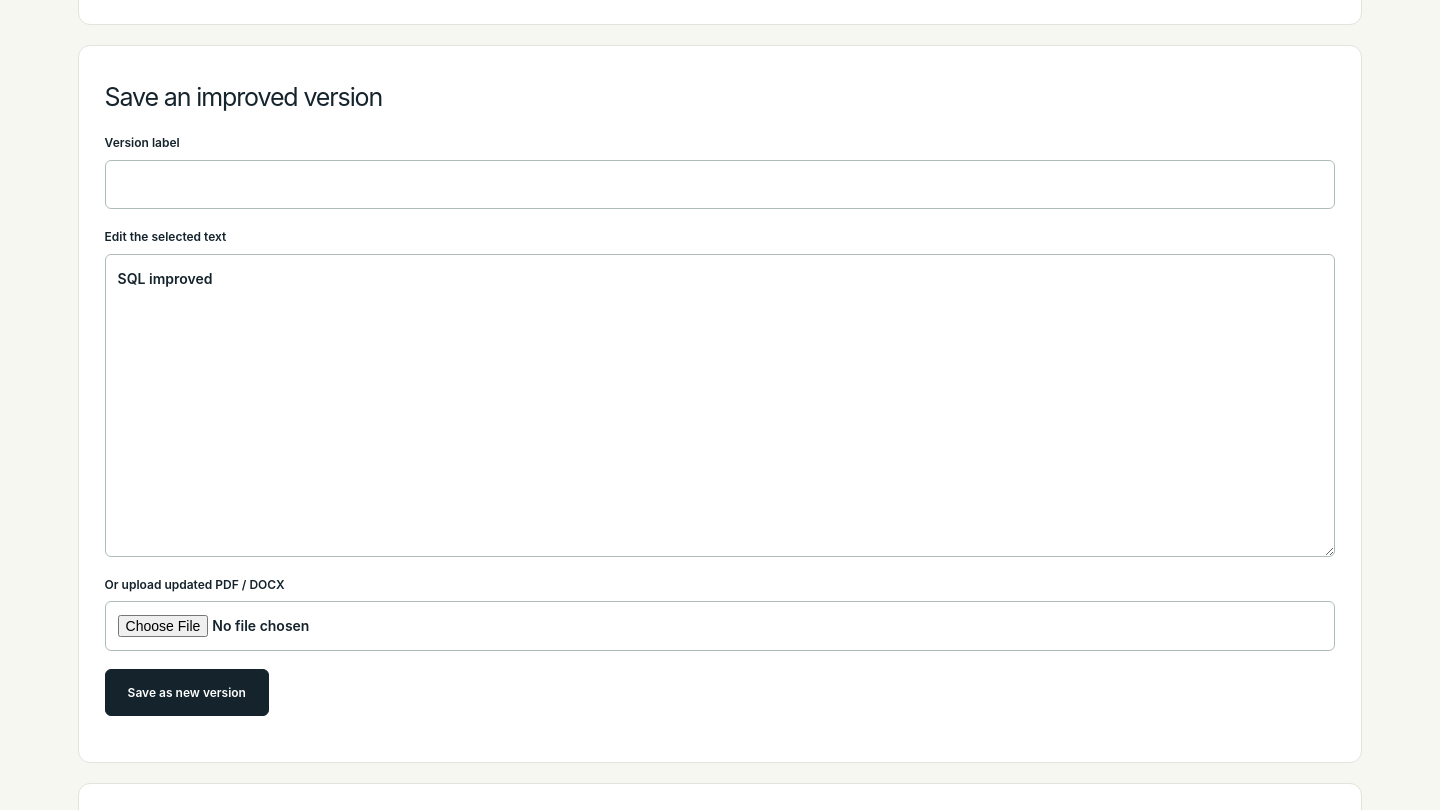
resume version conflicts preserve edits and existing immutable PDF download
(page scrolled)
Replace the text in the text box labelled "Edit the selected text" with "Keep my unsaved edit": (720, 405) [105,254,1335,557]
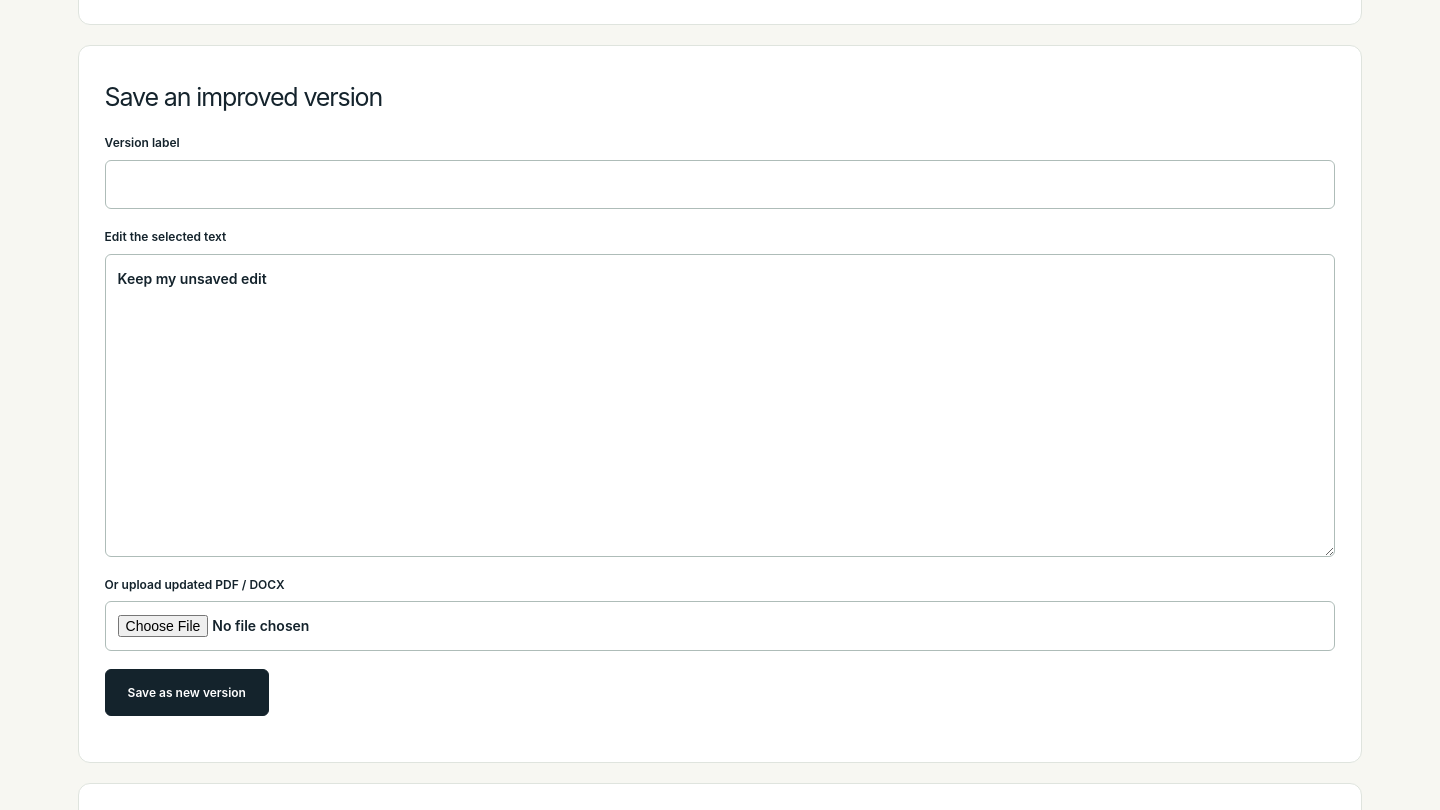
Click the button "Save as new version": (187, 692) [105,669,269,716]
(page scrolled)
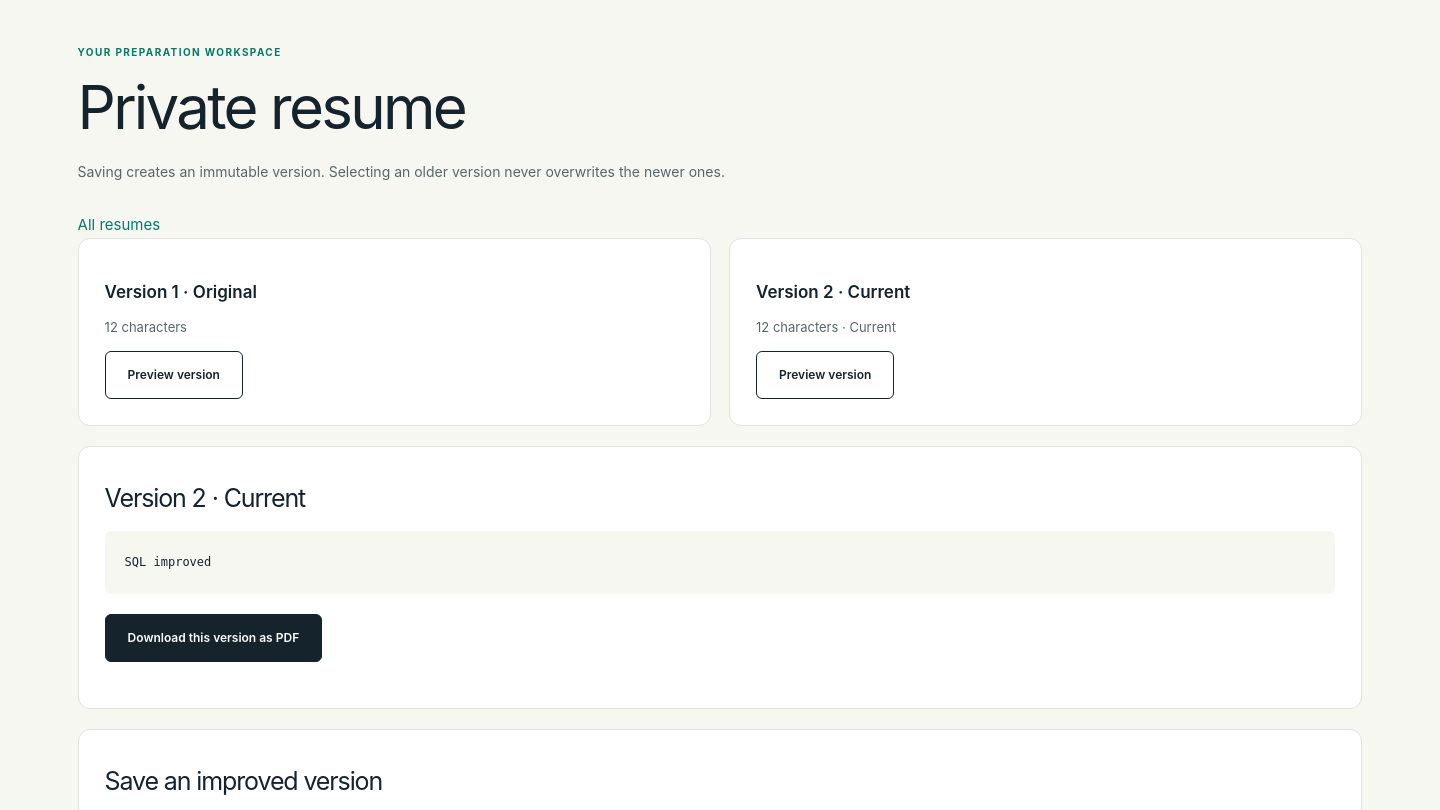
Click the button "Preview version" below "Original": (174, 375) [105,351,243,399]
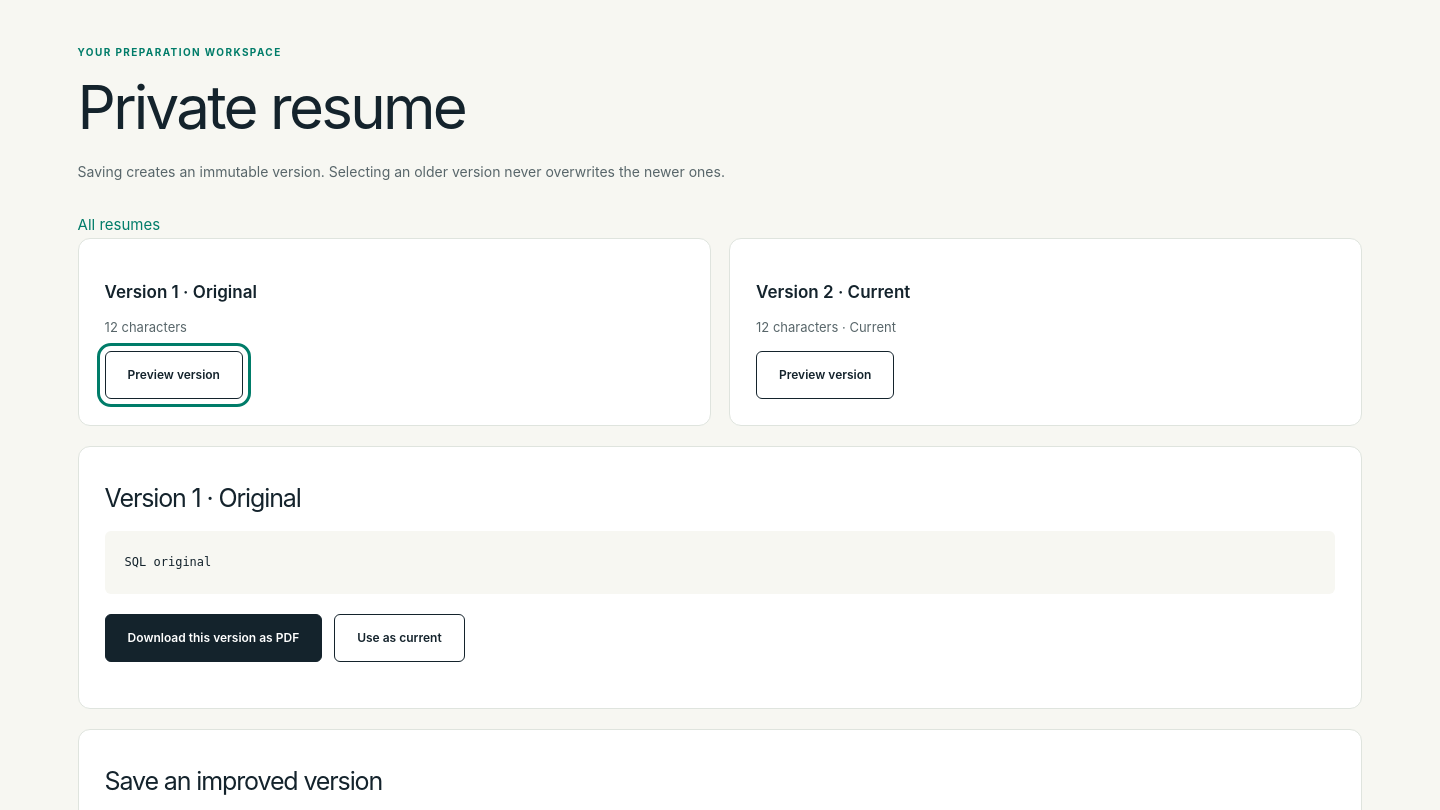
Result: the button "Use as current" is shown at [334,614,465,662]
